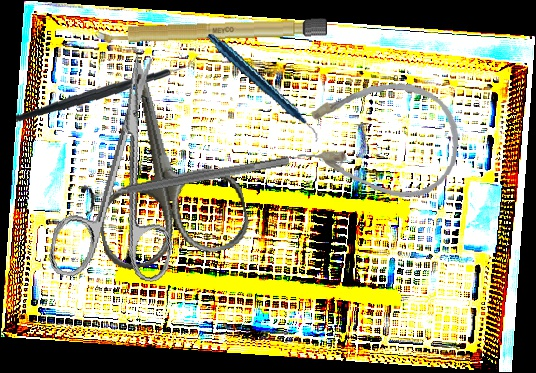Cannula: (293, 73, 464, 203)
Chopper: (16, 42, 196, 132)
Fixation Ring: (79, 145, 293, 217)
Handpiece: (205, 17, 320, 159)
Iris Scissors: (67, 46, 254, 275), (46, 44, 207, 295)
Scalpel Handle: (94, 17, 328, 45)
